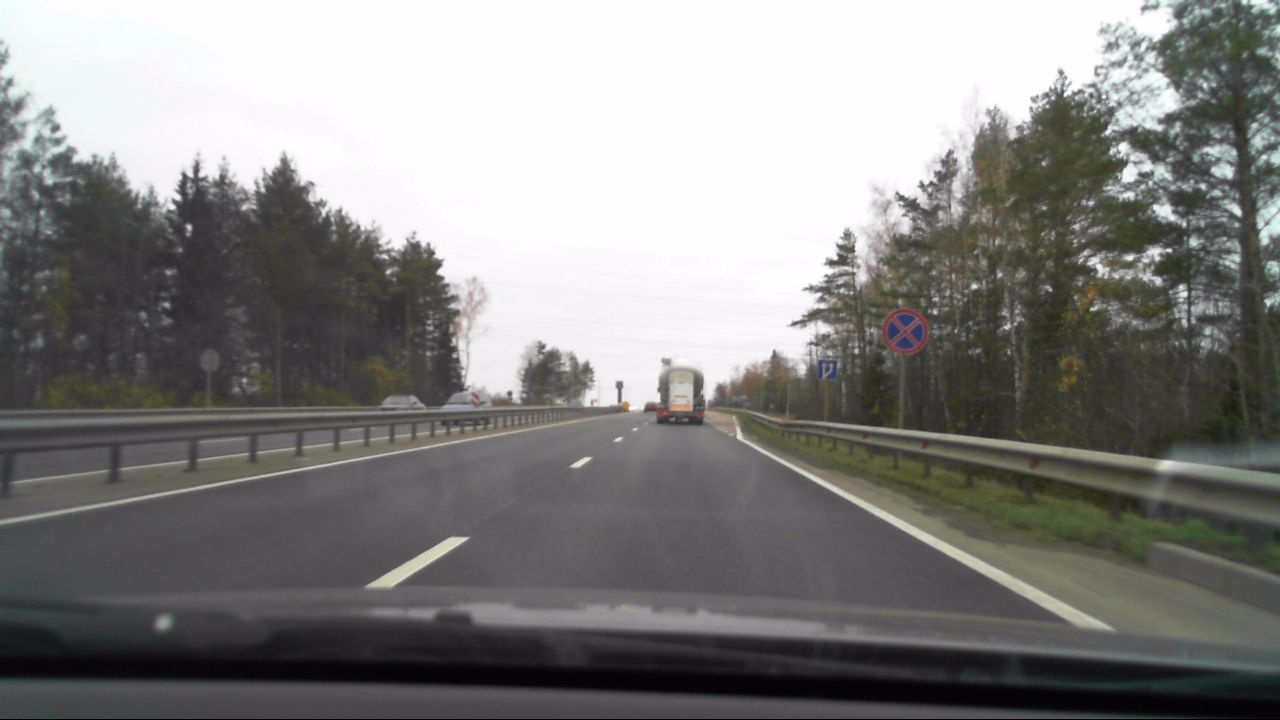No Parking: (882, 307, 930, 357)
